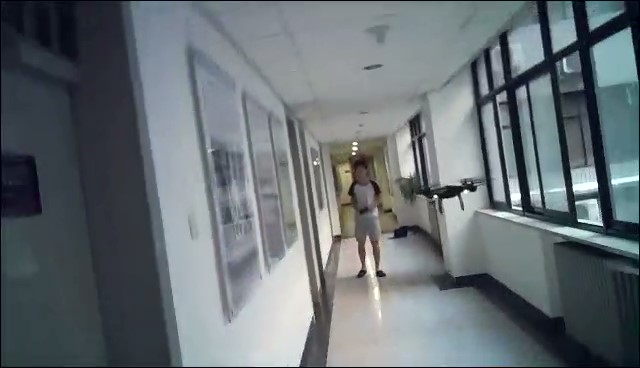drone: (408, 176, 490, 214)
person: (346, 160, 389, 278)
